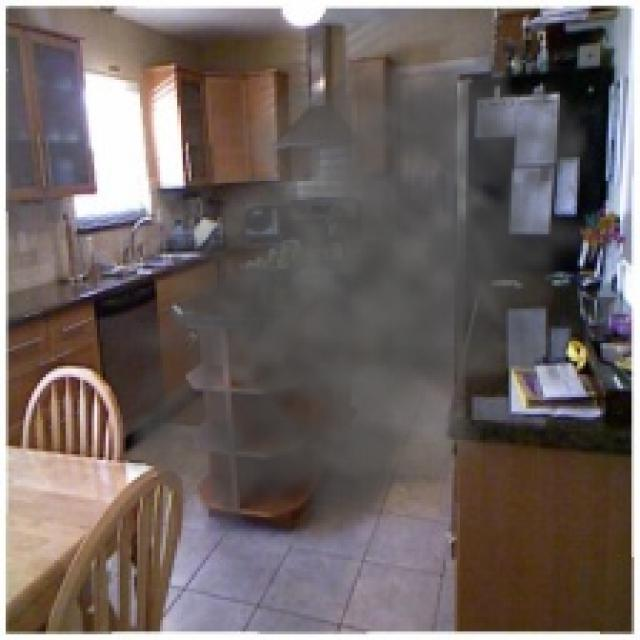smoke: (89, 3, 632, 571)
